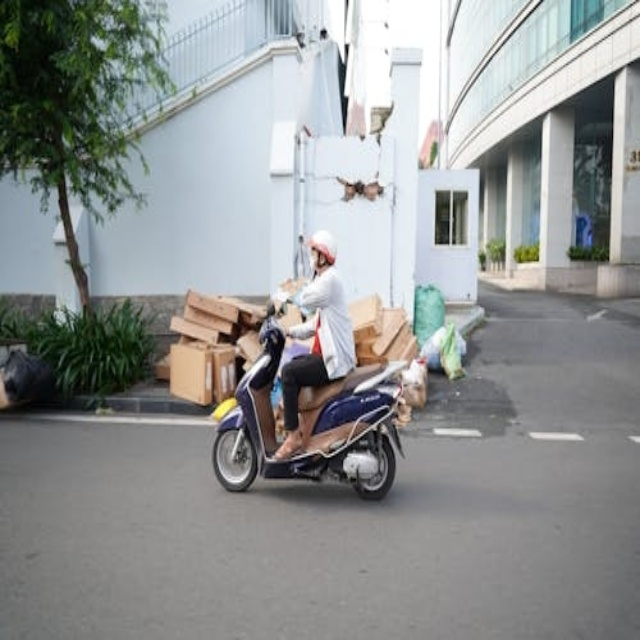Mascara: (309, 250, 319, 272)
